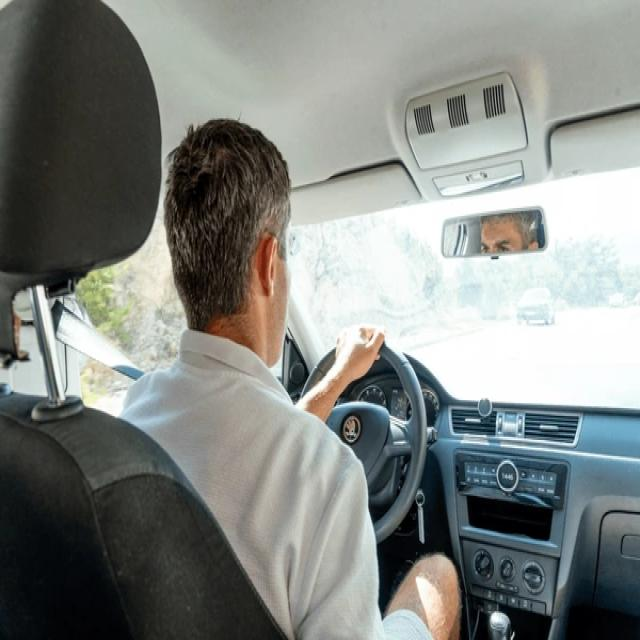skoda: (342, 412, 363, 442)
